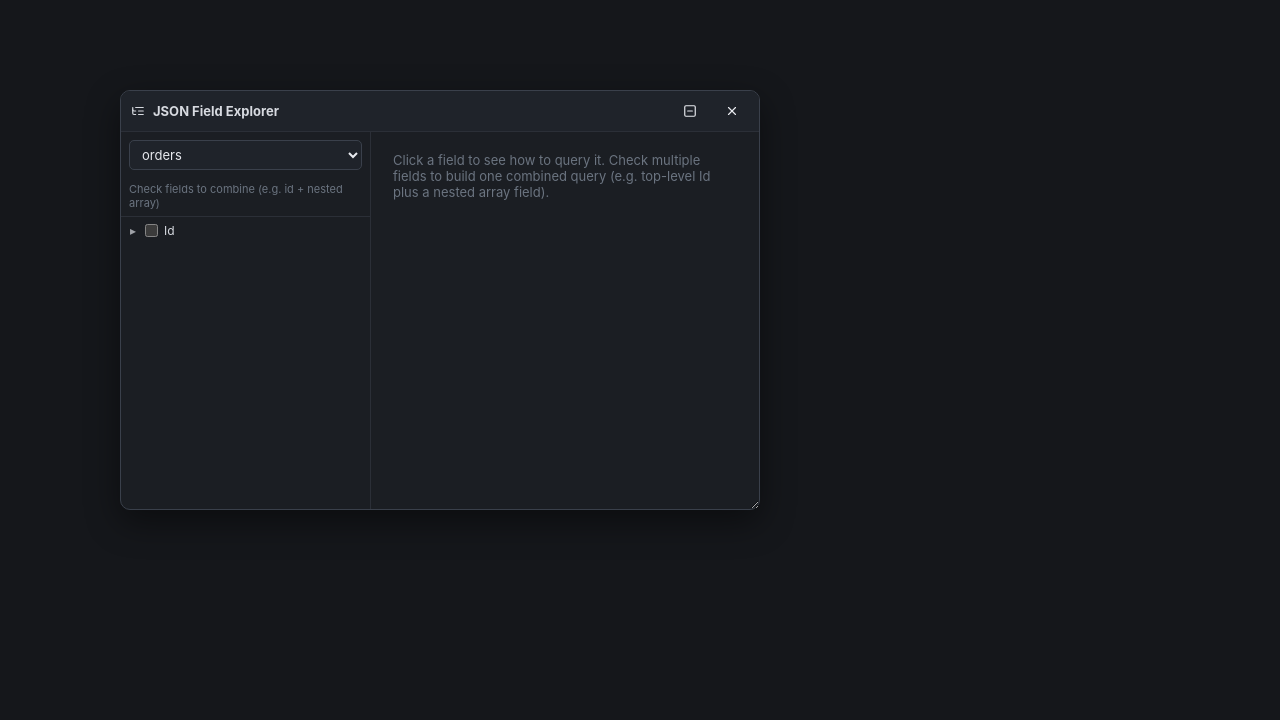
FieldExplorer shred steering › composes Id + nested field when Ctrl-selecting two fields
Step 1. Click the text "▸" → (133, 230), box left=130, top=223, right=136, bottom=238
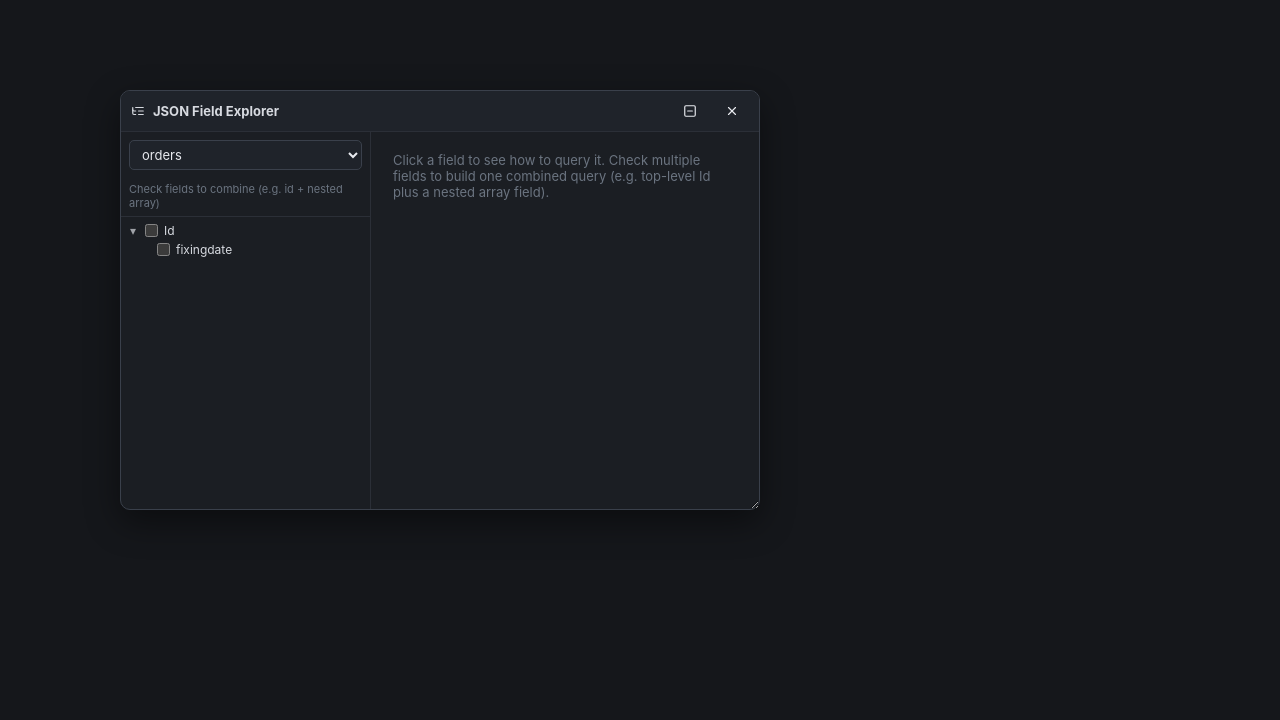
Step 2. Click the element with test id "fx-field-Id" → (152, 230), box left=130, top=223, right=175, bottom=238
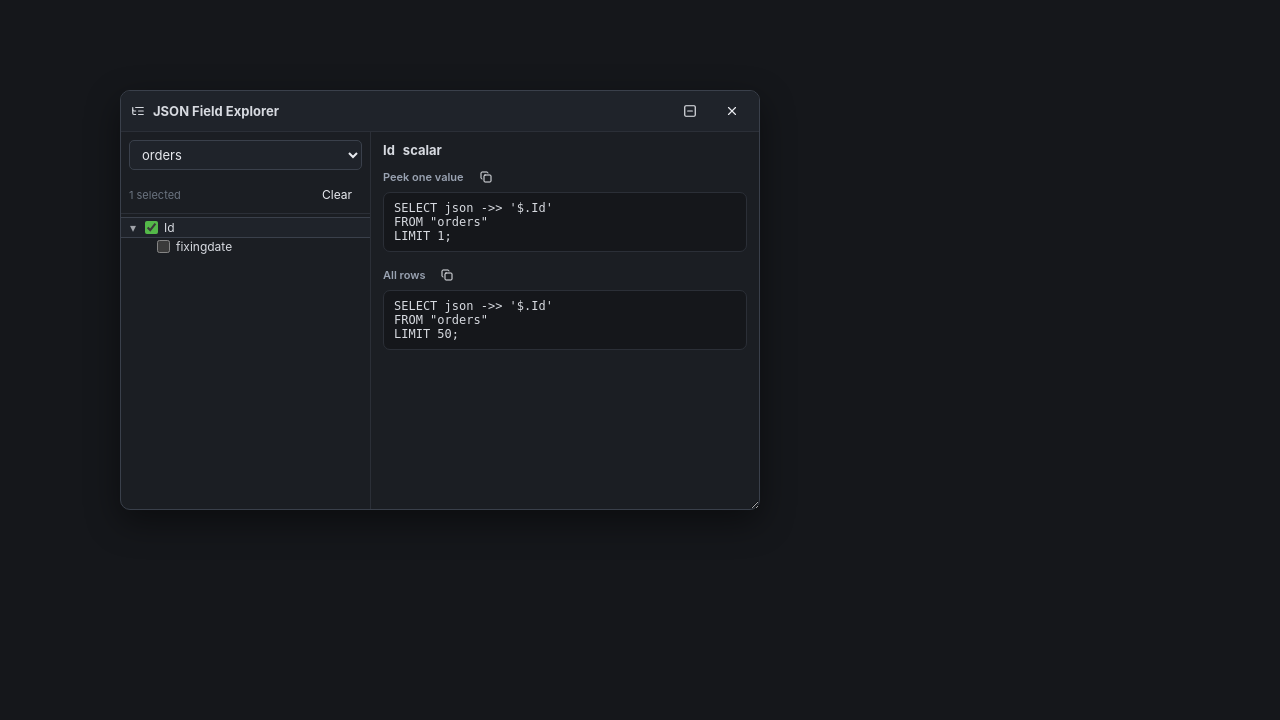
Step 3. Click the checkbox with test id "fx-check-fixingdate" → (164, 246), box left=157, top=240, right=170, bottom=253
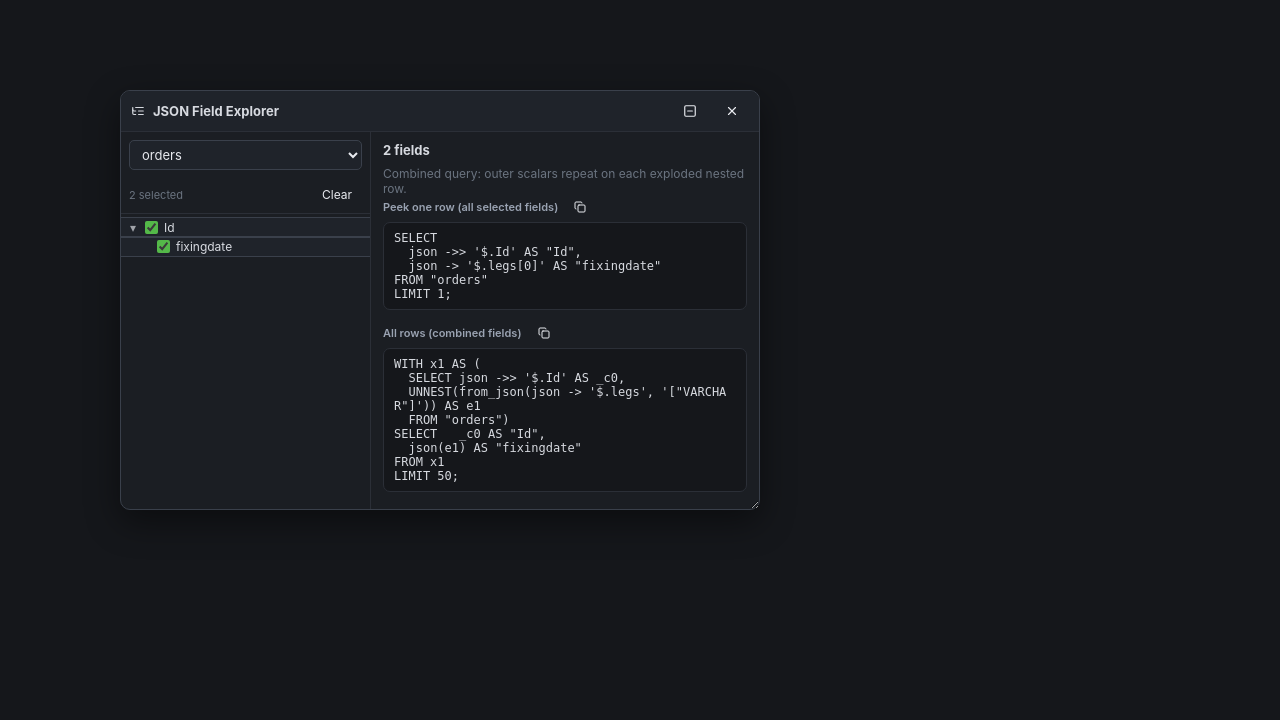
Expected: the text with test id "fx-multi-hint" shows "Combined query", left=383, top=166, right=744, bottom=196
Expected: the element with test id "fx-sel-bar" shows "2 selected", left=129, top=188, right=183, bottom=202
Expected: the text "All rows (combined fields)" is shown, left=383, top=326, right=522, bottom=340
